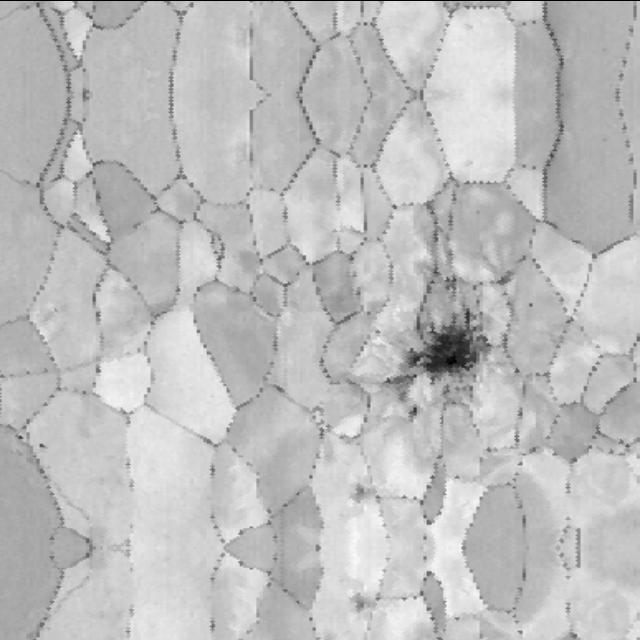good_void: (381, 299, 505, 427), (339, 587, 375, 617), (339, 476, 375, 505), (34, 438, 50, 451), (451, 468, 463, 481), (451, 611, 463, 624), (14, 432, 25, 442)
